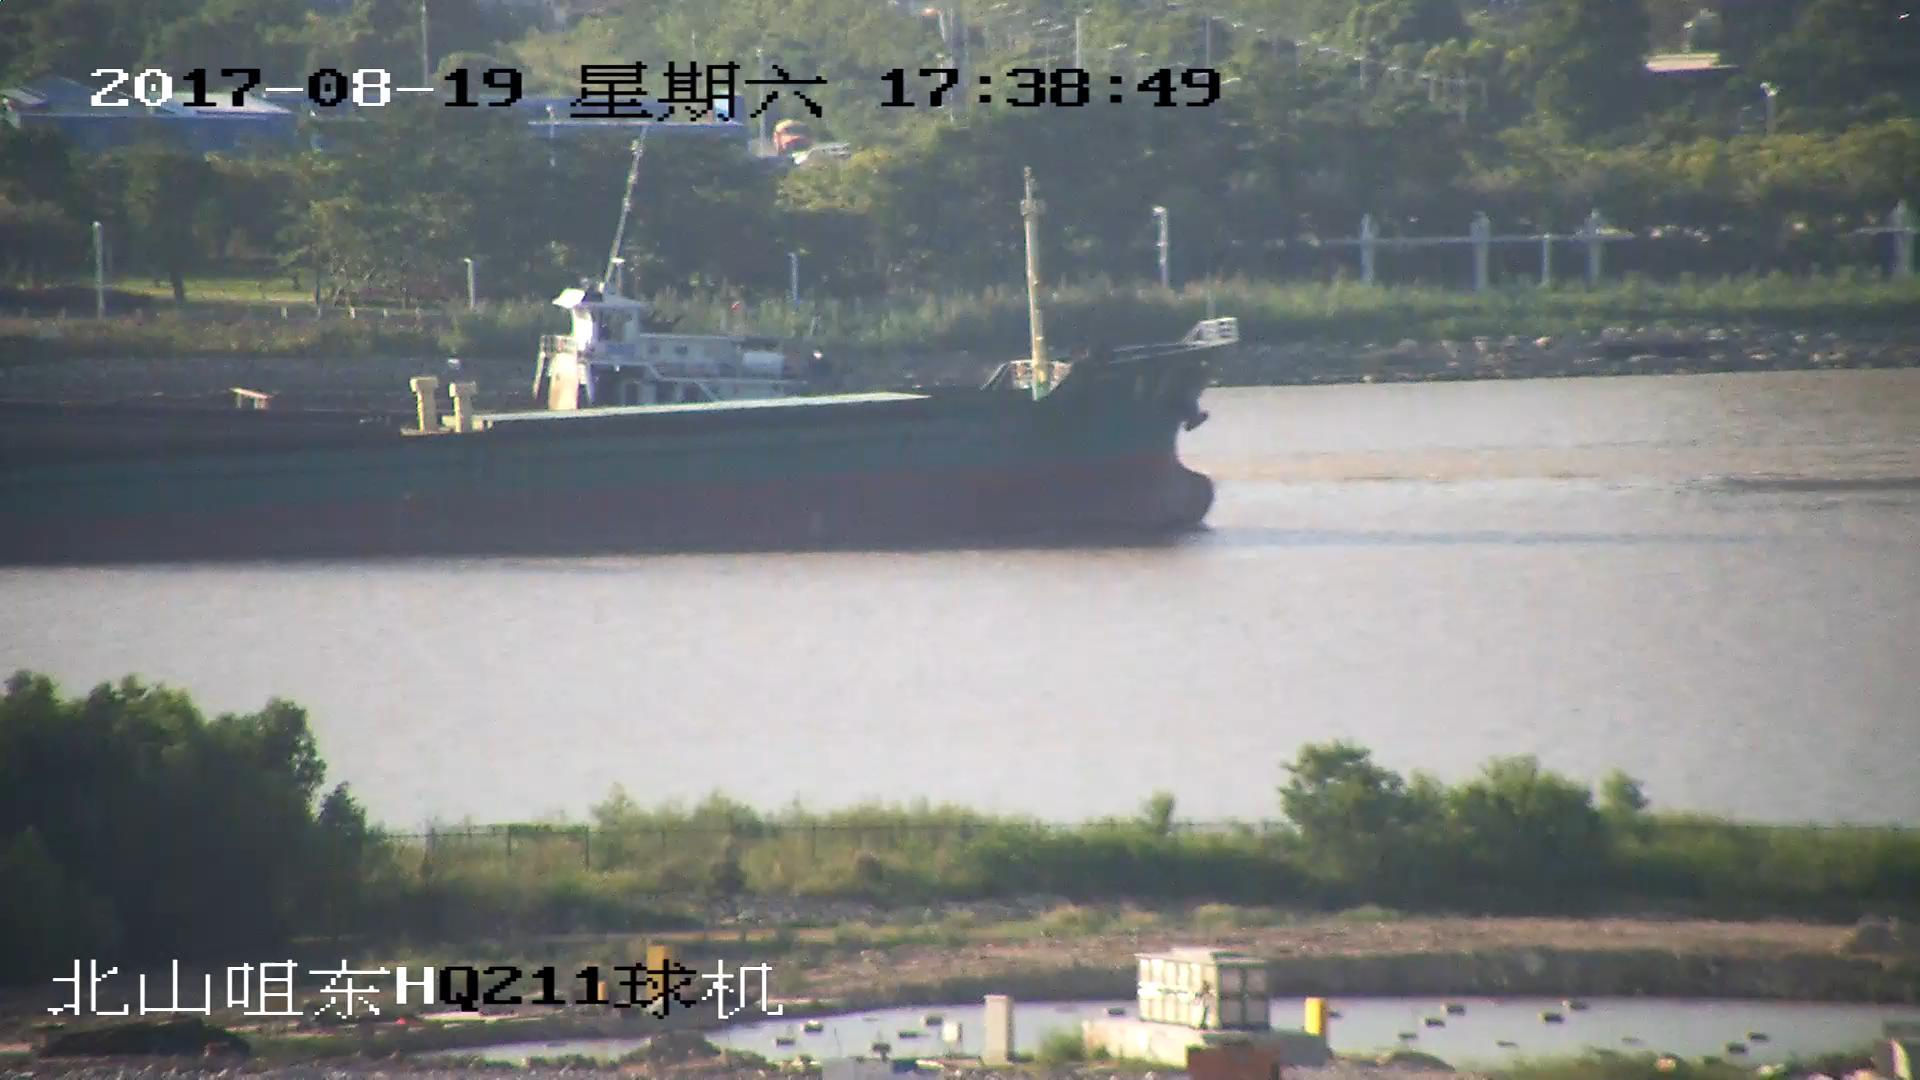Ship: (3, 315, 1232, 542)
